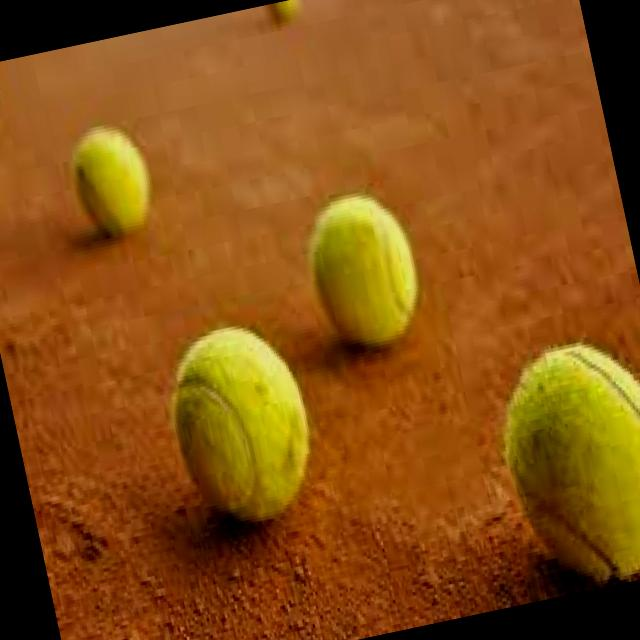Tennis Ball: (502, 342, 640, 589), (166, 325, 313, 527), (307, 193, 422, 353), (70, 124, 154, 240), (261, 0, 305, 27)
